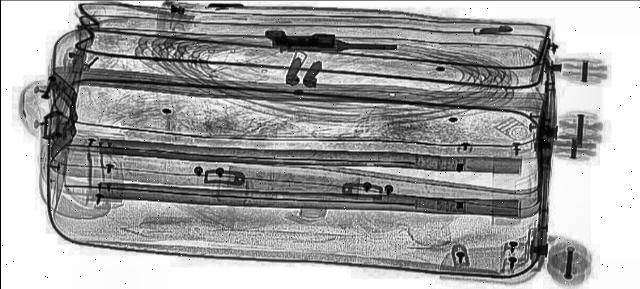Gun: (262, 26, 396, 56)
